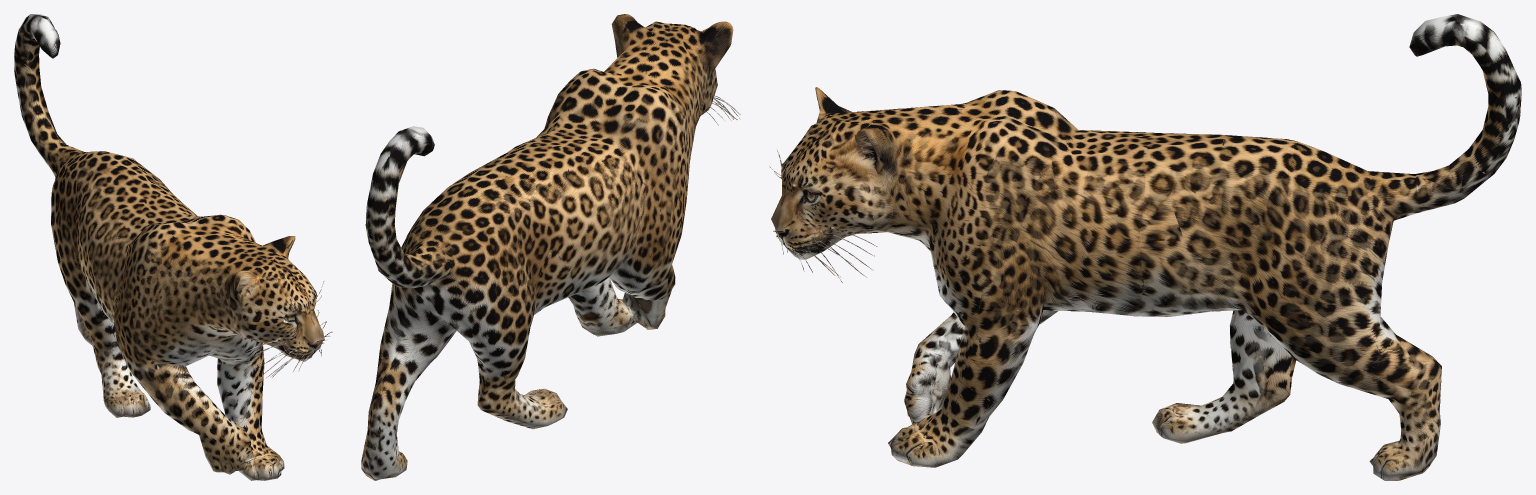
File: leopard.glb
The picture shows the model from 3 angles, left to right: view 1: azimuth 30°, elevation 25°; view 2: azimuth 150°, elevation 25°; view 3: azimuth 270°, elevation 25°; orthographic projection. The views are drawn at different scales.
Visible parts, largest first — view 1: leopard; view 2: leopard; view 3: leopard.
Part boxes in pixels (left/top/right/bottom): leopard: left=14, top=14, right=332, bottom=480; leopard: left=361, top=14, right=740, bottom=480; leopard: left=769, top=14, right=1521, bottom=480.
Bounding box in the file's own units: 0.4454 × 0.9833 × 1.56.
1 material, 1 textured.
